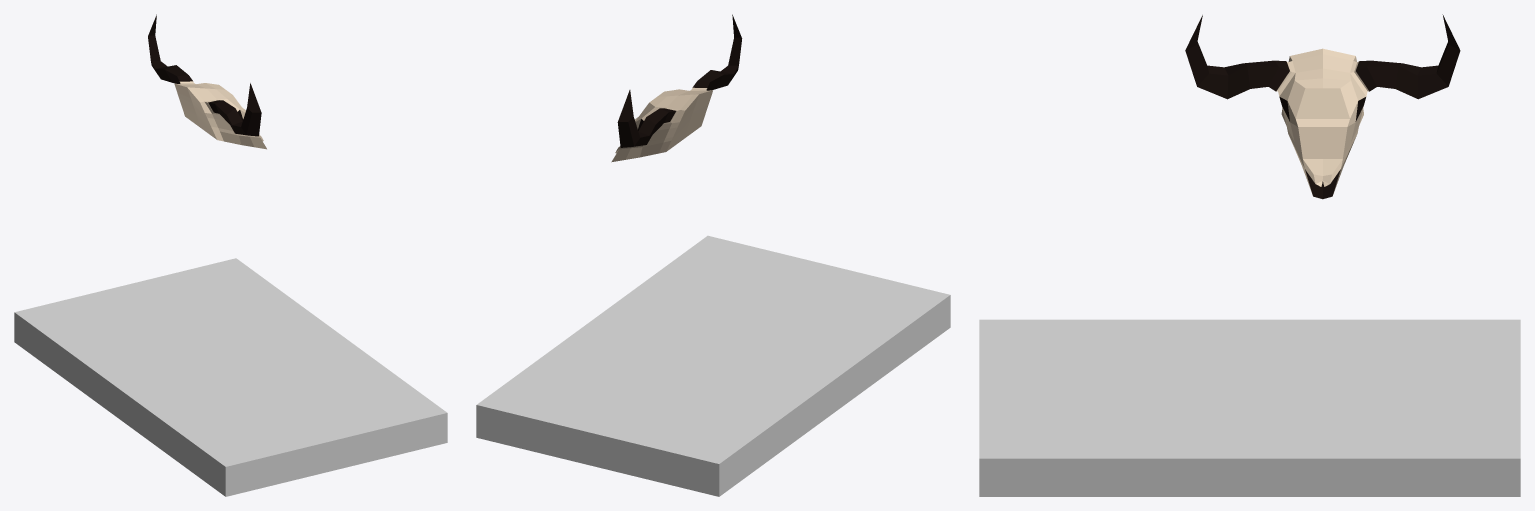
The model's file is skull.glb.
3 views of the same model, side by side, from view 1: azimuth 30°, elevation 25°; view 2: azimuth 150°, elevation 25°; view 3: azimuth 270°, elevation 25° (orthographic). The views are drawn at different scales.
Visible parts, largest first — view 1: Cube, Cube.001; view 2: Cube, Cube.001; view 3: Cube, Cube.001.
Boxes of the visible parts, x1,y1,x2,y2 form: Cube: (14,258,447,496); Cube.001: (148,14,266,149); Cube: (476,235,950,496); Cube.001: (611,14,742,162); Cube: (979,319,1520,496); Cube.001: (1185,14,1460,199).
Bounding box in the file's own units: 5.79 × 8.07 × 9.56.
